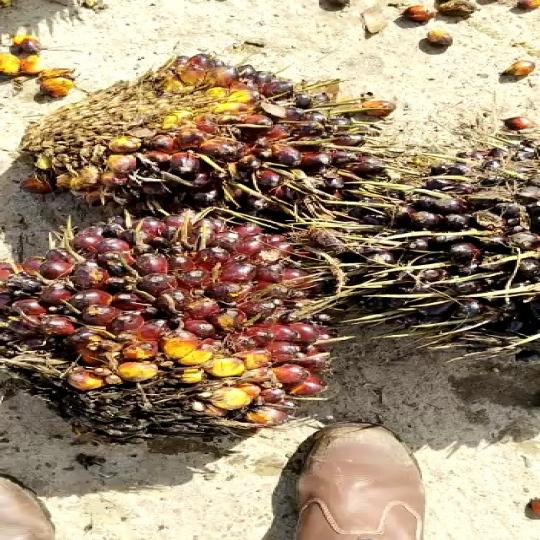kurang masak: (4, 210, 332, 470), (280, 127, 540, 363), (13, 53, 360, 197)
